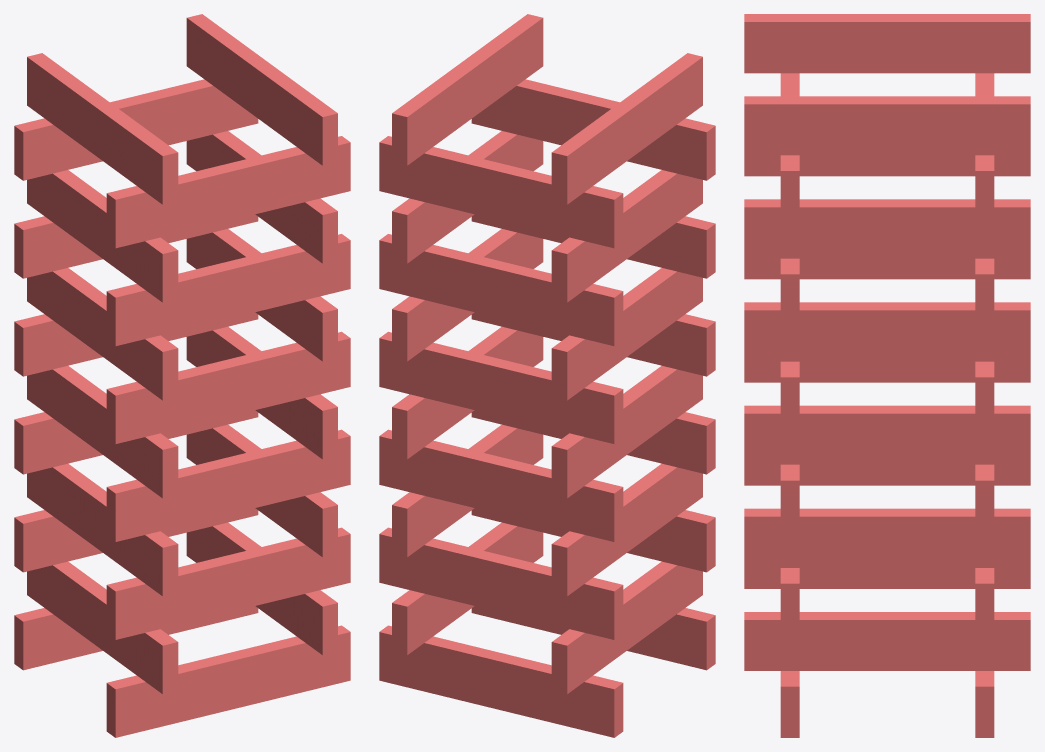
File: flat_tower.dae
3 views of the same model, side by side, from view 1: azimuth 30°, elevation 25°; view 2: azimuth 150°, elevation 25°; view 3: azimuth 270°, elevation 25° (orthographic). The views are drawn at different scales.
Visible parts, largest first — view 1: base (×24); view 2: base (×24); view 3: base (×24).
Boxes of the visible parts, x1,y1,x2,y2 form: base (×24): (14,14,350,737); base (×24): (379,14,715,737); base (×24): (744,14,1030,737).
Size of the model in its own units: 0.1177 by 0.1177 by 0.2806.
